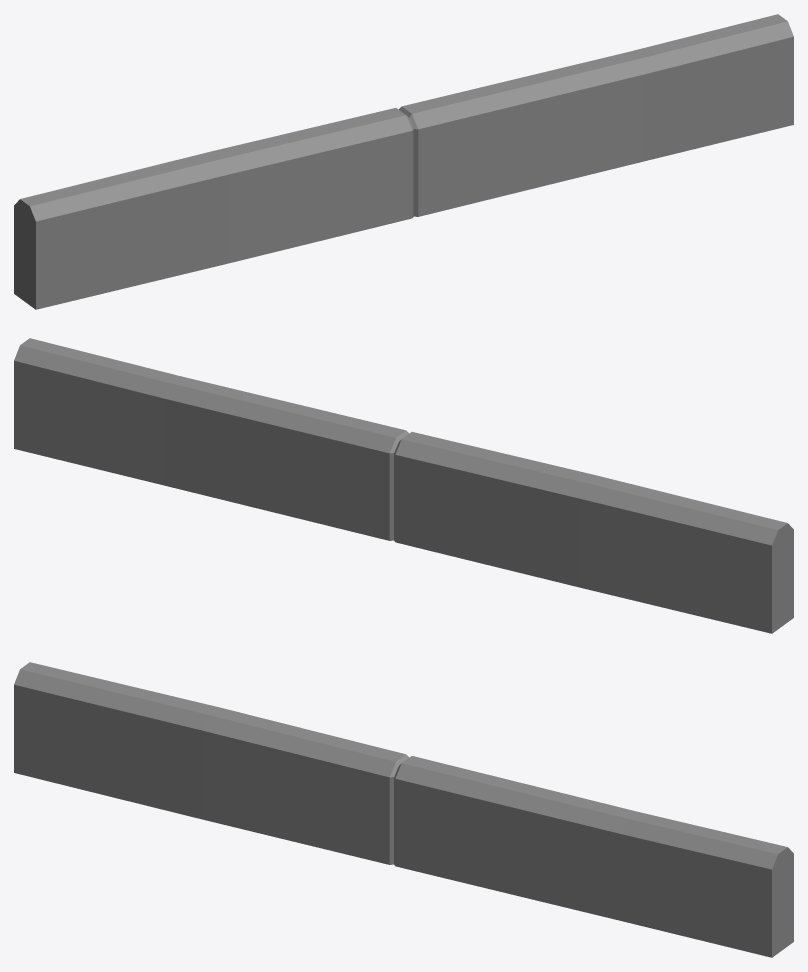
Rendered from Tile_Curb_01.fbx.
3 renders of one model, top to bottom at view 1: azimuth 30°, elevation 25°; view 2: azimuth 150°, elevation 25°; view 3: azimuth 330°, elevation 25°, orthographic.
Parts seen in each view (by area): view 1: Curb; view 2: Curb; view 3: Curb.
Part boxes in pixels (<box>): Curb: <box>14,14,793,309</box>; Curb: <box>14,338,793,633</box>; Curb: <box>14,662,793,957</box>.
Bounding box in the file's own units: 200 × 25.18 × 10.64.
